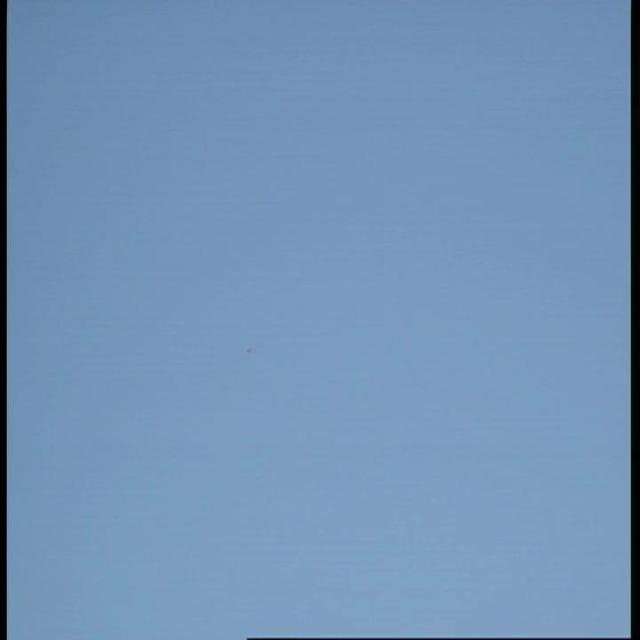drone: (241, 340, 255, 358)
